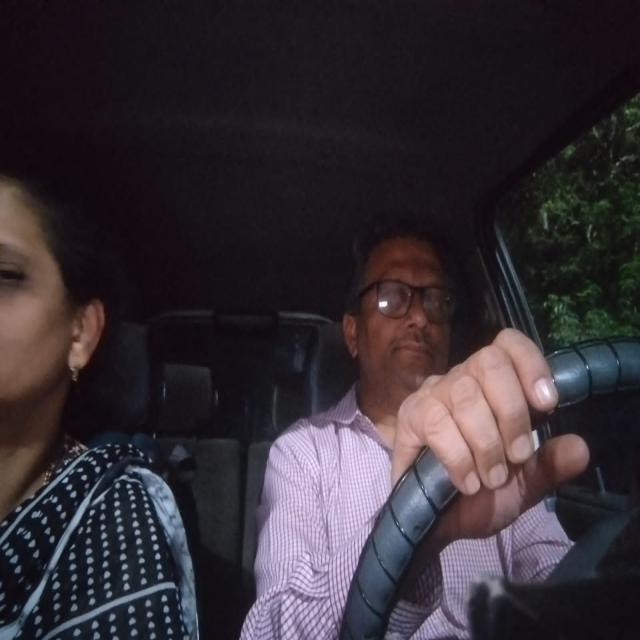person: (0, 152, 112, 436), (343, 209, 466, 382)
